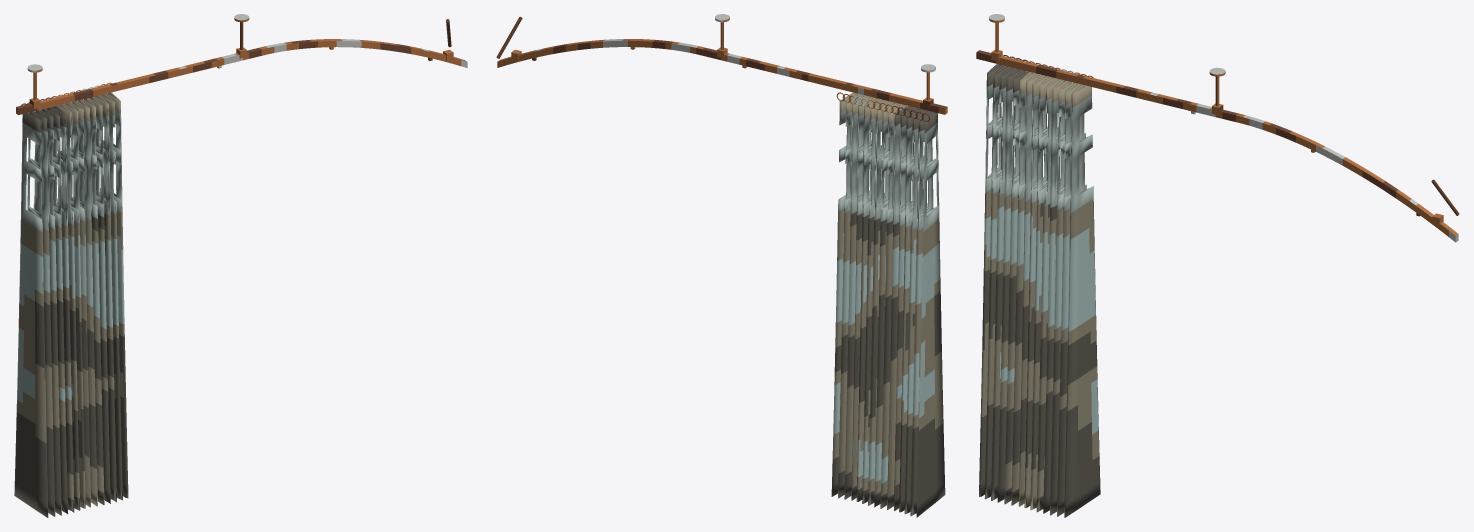
Rendered from Hospital_cutton_v6.fbx.
3 renders of one model, left to right at view 1: azimuth 30°, elevation 25°; view 2: azimuth 150°, elevation 25°; view 3: azimuth 330°, elevation 25°, orthographic. The views are drawn at different scales.
Parts seen in each view (by area): view 1: 06_Folded_Damaged_Curtain; view 2: 06_Folded_Damaged_Curtain; view 3: 06_Folded_Damaged_Curtain.
Part boxes in pixels (x1,y1,x2,y2): 06_Folded_Damaged_Curtain: (14, 14, 467, 517); 06_Folded_Damaged_Curtain: (496, 14, 947, 517); 06_Folded_Damaged_Curtain: (976, 14, 1459, 517).
Size of the model in its own units: 240 by 224 by 30.02.
